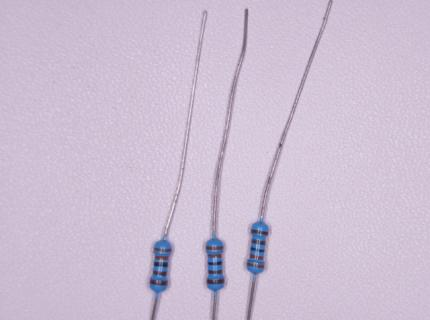Black band: (251, 247, 265, 253), (153, 263, 168, 267), (208, 261, 222, 265)
Brown band: (251, 229, 269, 236), (150, 279, 168, 285), (252, 239, 266, 245), (208, 279, 224, 284), (153, 271, 167, 276), (209, 270, 223, 274)
Orange band: (247, 263, 265, 269), (250, 254, 264, 260), (153, 248, 172, 252), (206, 246, 223, 250), (155, 256, 169, 260), (208, 254, 221, 258)
